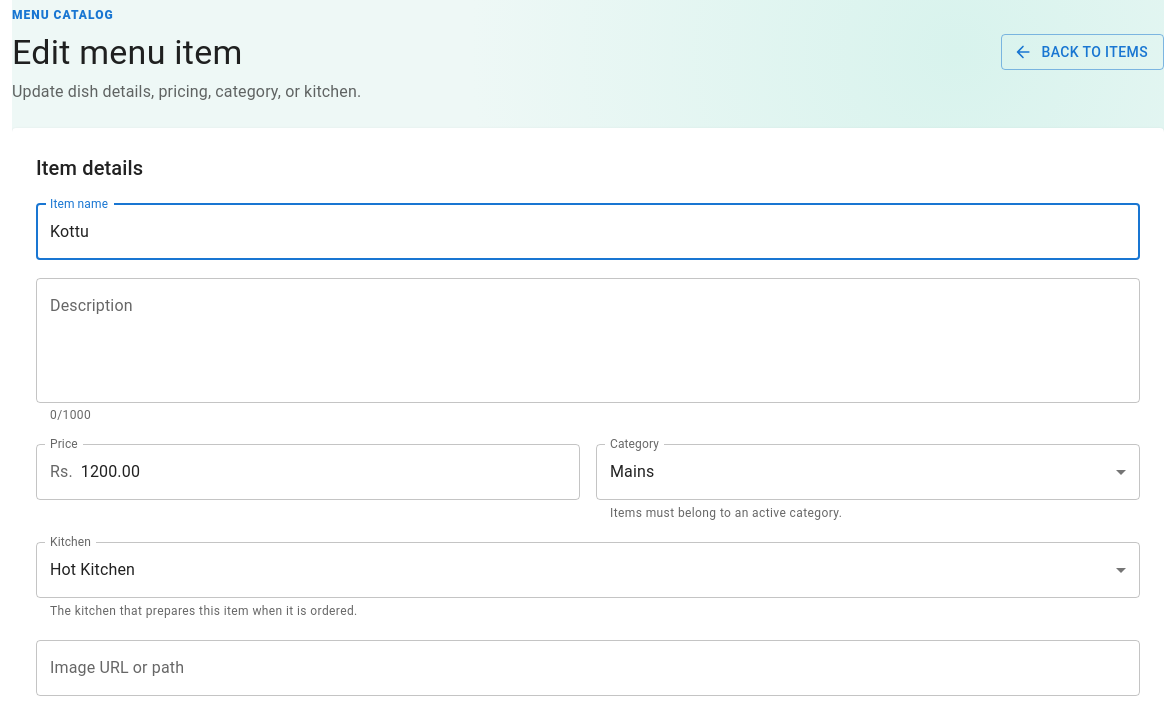
Test: Menu item kitchen assignment › shows the server message when the backend rejects the kitchen
The image size is (1176, 701).
Click the dropdown labelled "Kitchen" at point(93, 570), box [50, 560, 135, 579]
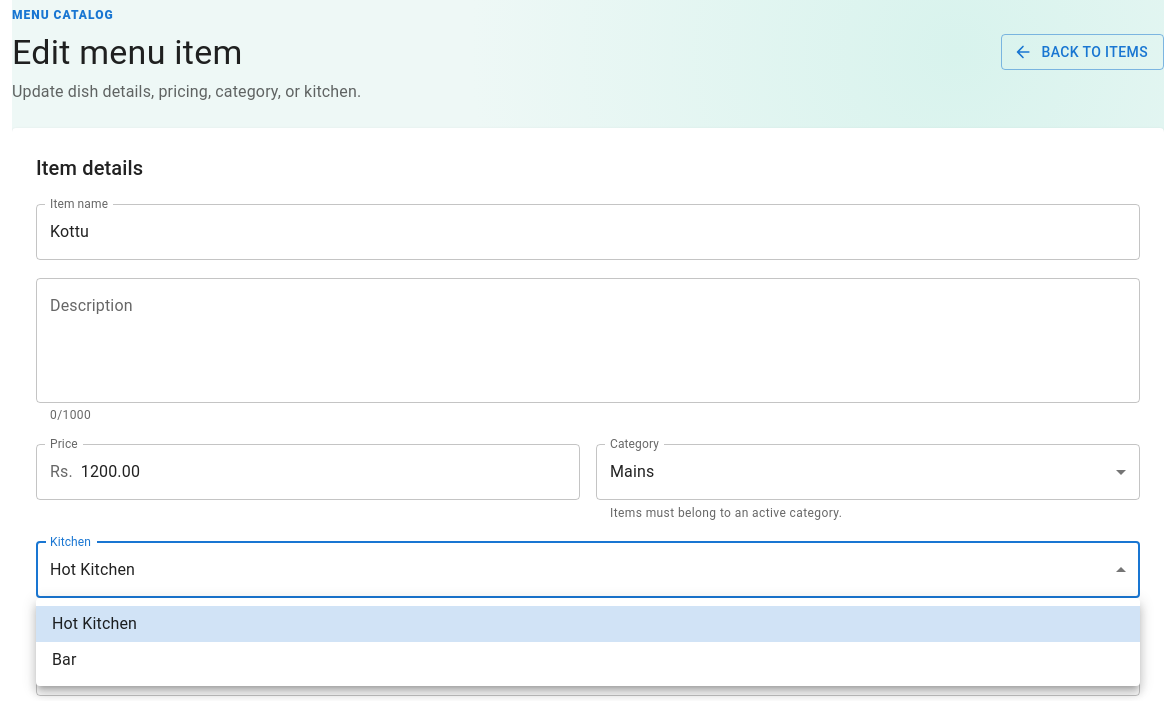
Click the option "Bar" at point(64, 660), box [52, 650, 76, 669]
(page scrolled)
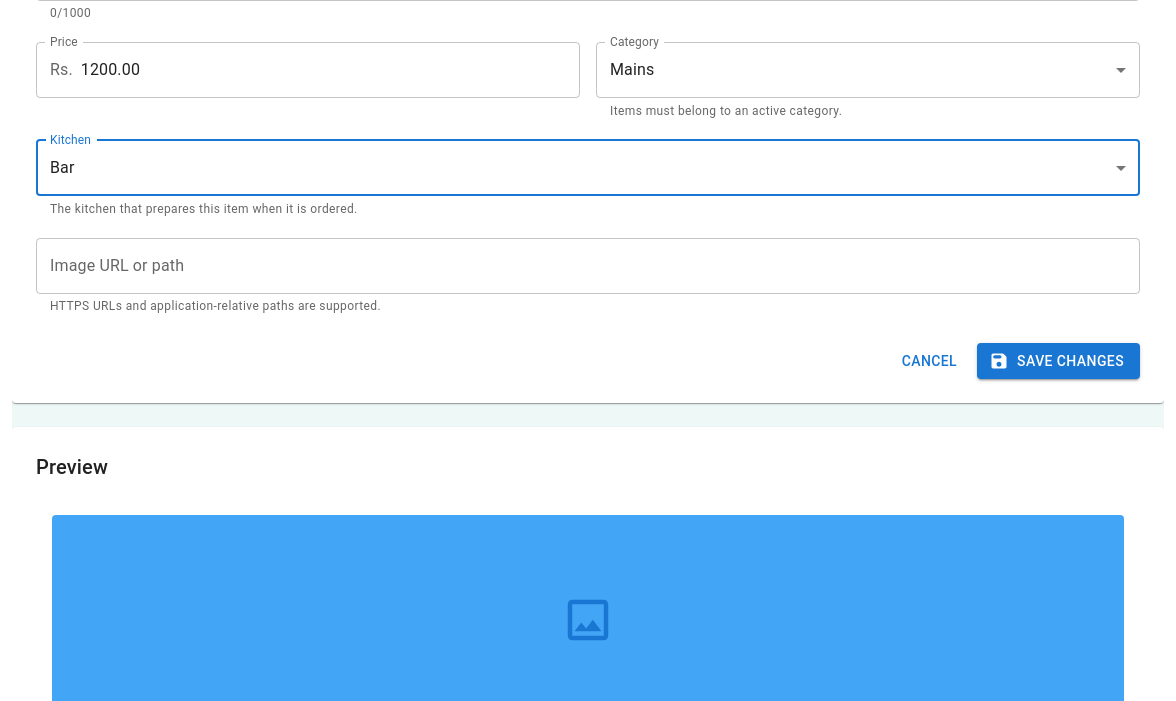
Click the button "Save changes" at point(1059, 361), box [977, 342, 1140, 379]
(page scrolled)
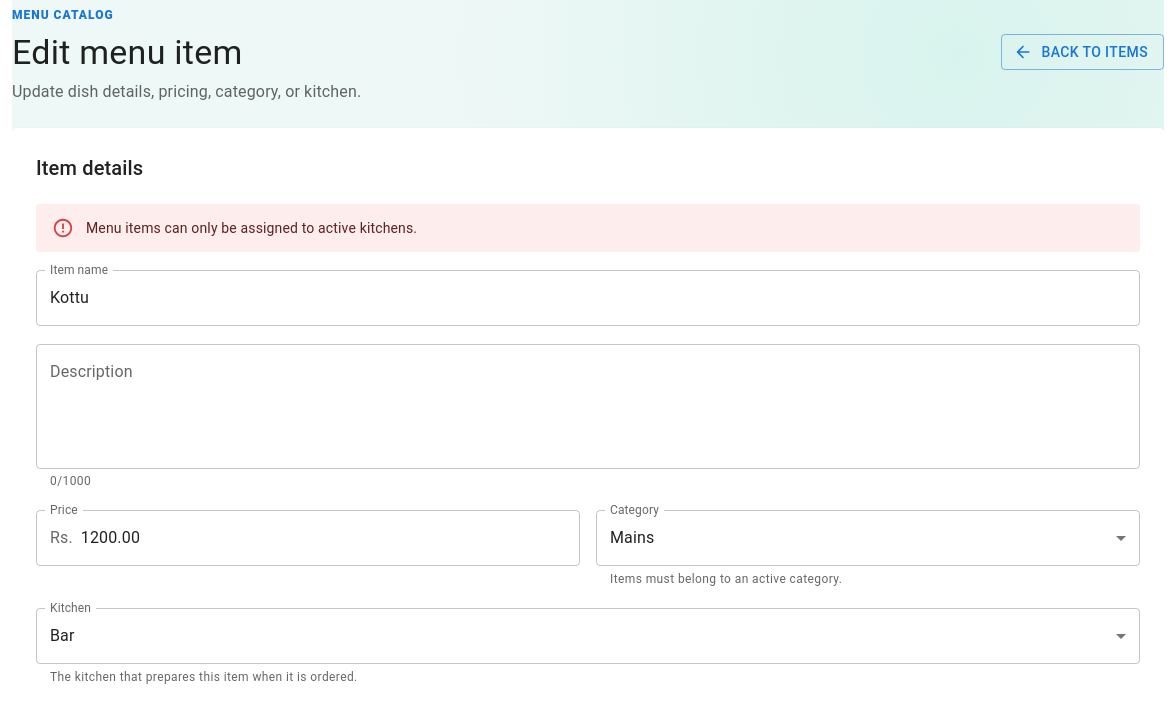
Result: the text "Menu items can only be assigned to active kitchens." is shown at [86, 220, 417, 236]
